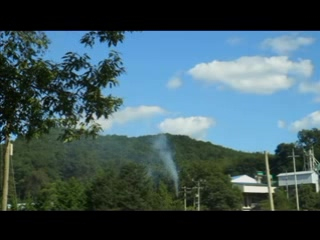smoke: (141, 134, 183, 198)
